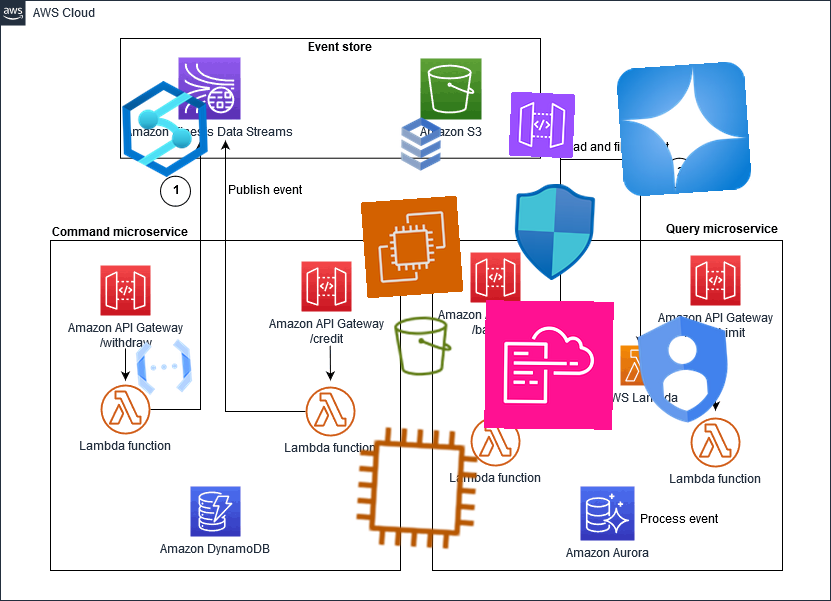aws_amazon_api_gateway: (508, 91, 576, 159)
aws_amazon_ec2: (360, 195, 464, 299)
aws_cloudformation: (484, 300, 614, 430)
aws_ec2_instance: (349, 420, 485, 556)
aws_simple_storage_service_bucket: (389, 312, 457, 380)
azure_network_security_groups: (503, 181, 605, 283)
azure_openai: (615, 60, 753, 198)
azure_synapse_analytics: (115, 79, 215, 179)
gcp_cloud_functions: (129, 332, 199, 402)
gcp_cloud_sql: (388, 111, 454, 177)
gcp_identity_and_access_management: (615, 300, 753, 438)
